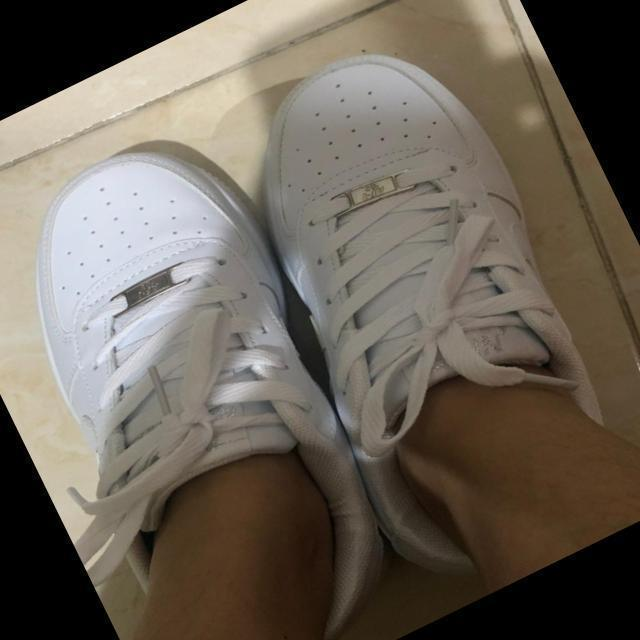nike fake air force: (186, 6, 640, 601), (0, 93, 443, 640)
